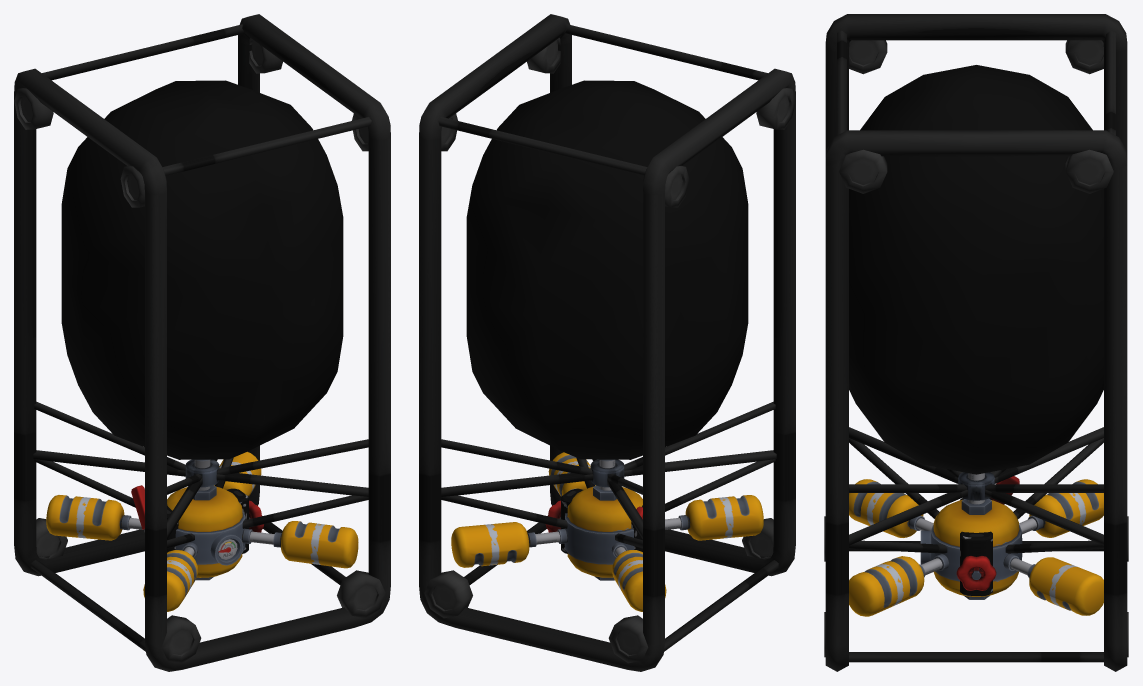
The model's file is fant_chemical_lift_engine_2.obj.
The picture shows the model from 3 angles, left to right: view 1: azimuth 30°, elevation 25°; view 2: azimuth 150°, elevation 25°; view 3: azimuth 270°, elevation 25°; orthographic projection. The views are drawn at different scales.
Parts seen in each view (by area): view 1: fant_chemical_lift_engine_Mesh.008; view 2: fant_chemical_lift_engine_Mesh.008; view 3: fant_chemical_lift_engine_Mesh.008.
Boxes of the visible parts, x1=… form: fant_chemical_lift_engine_Mesh.008: x1=14, y1=14, x2=390, y2=671; fant_chemical_lift_engine_Mesh.008: x1=419, y1=14, x2=795, y2=671; fant_chemical_lift_engine_Mesh.008: x1=824, y1=14, x2=1128, y2=671.
Bounding box in the file's own units: 4.03 × 8 × 4.03.
